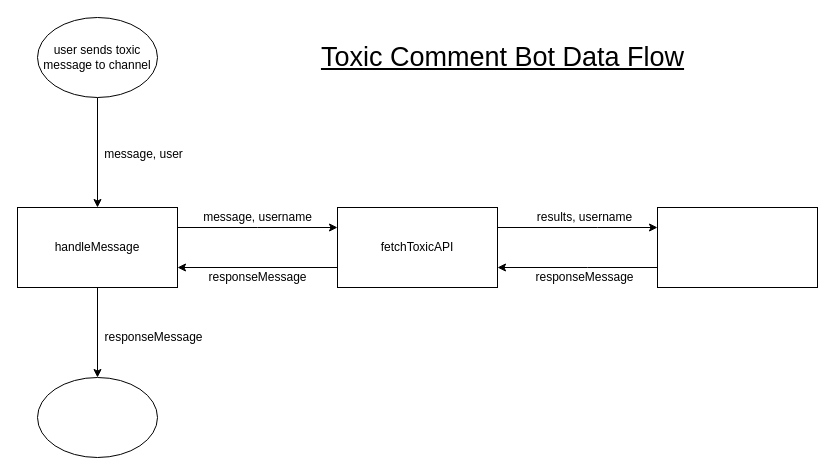
Some shapes in this 835 by 475 pixel diagram are drawn without their labels. Each missing label, with the box of its shape:
analyzeMessage: (656, 206, 818, 288)
output to channel: (36, 376, 158, 458)
